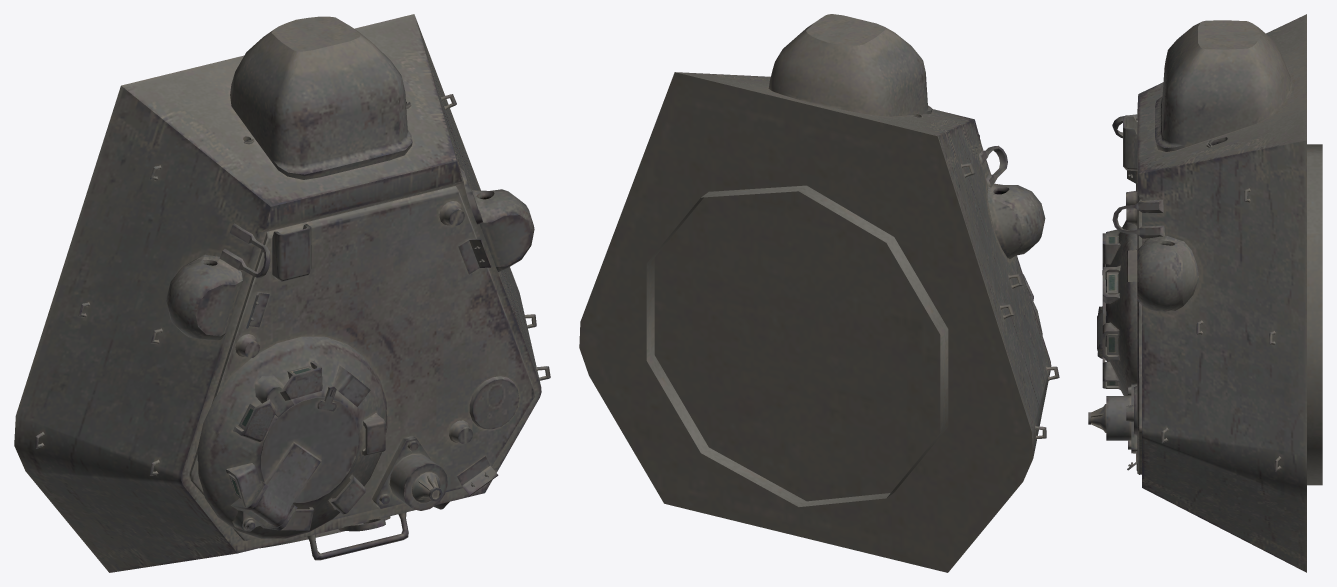
Rendered from Turret_01.glb.
3 views of the same model, side by side, from view 1: azimuth 30°, elevation 25°; view 2: azimuth 150°, elevation 25°; view 3: azimuth 270°, elevation 25° (orthographic). The views are drawn at different scales.
Parts seen in each view (by area): view 1: set_0_group_0; view 2: set_0_group_0; view 3: set_0_group_0.
Part boxes in pixels (x1,y1,x2,y2): set_0_group_0: (14,14,550,572); set_0_group_0: (579,14,1059,572); set_0_group_0: (1088,14,1322,572).
Size of the model in its own units: 2.59 by 2.61 by 1.18.
Materials: 1 (1 with a texture image).
